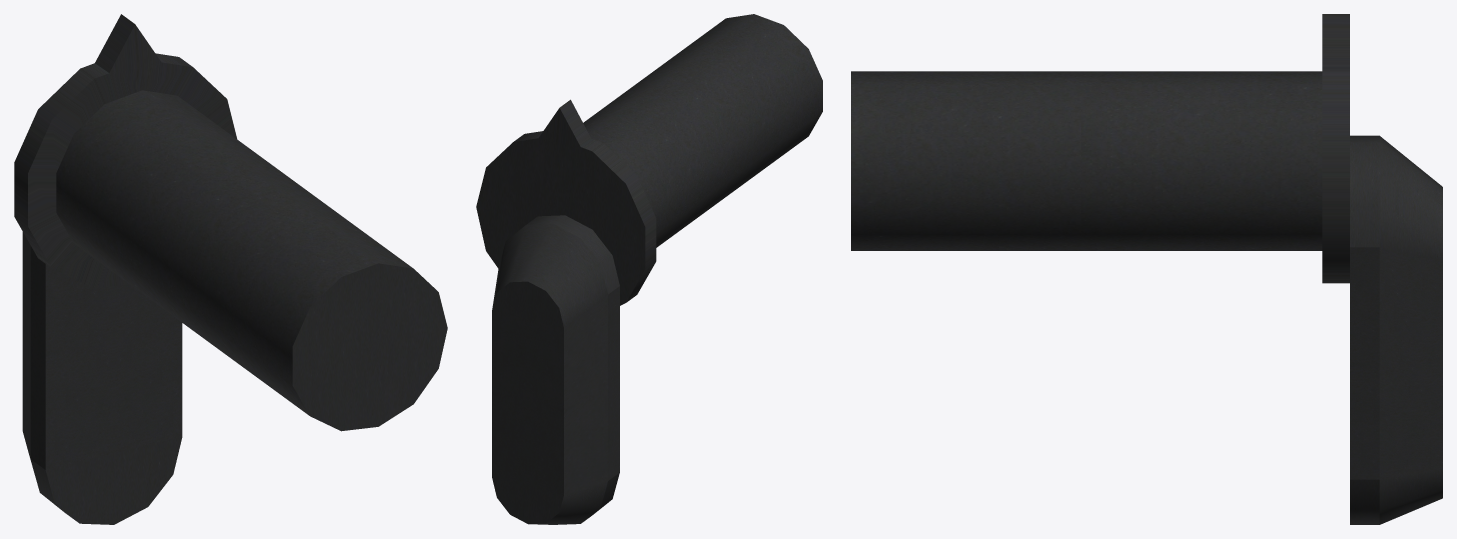
File: Selector_Lever.dae
The picture shows the model from 3 angles, left to right: view 1: azimuth 30°, elevation 25°; view 2: azimuth 150°, elevation 25°; view 3: azimuth 270°, elevation 25°; orthographic projection. The views are drawn at different scales.
Parts seen in each view (by area): view 1: Selector_Lever; view 2: Selector_Lever; view 3: Selector_Lever.
Boxes of the visible parts, box(x1,y1,x2,y2) form: Selector_Lever: box(14, 14, 447, 524); Selector_Lever: box(476, 14, 822, 524); Selector_Lever: box(851, 14, 1442, 524).
Size of the model in its own units: 0.0125 by 0.0303 by 0.0287.
1 material, 1 textured.
